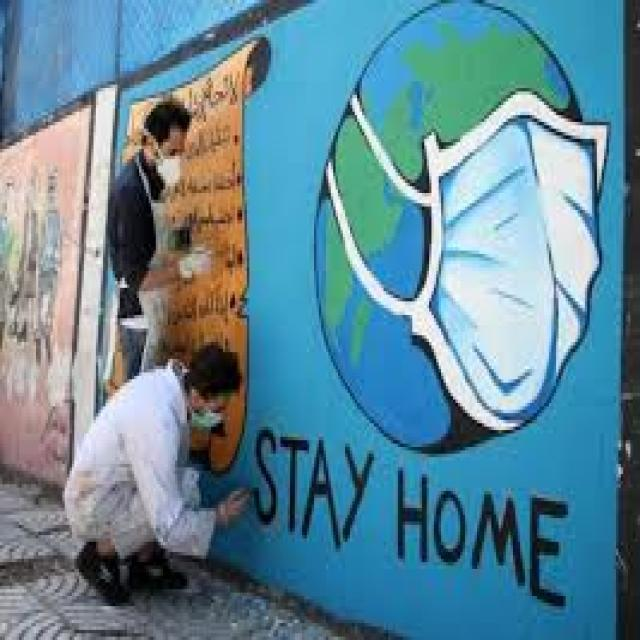-: (314, 0, 609, 450), (124, 32, 272, 470), (248, 431, 568, 612), (2, 101, 70, 494)
